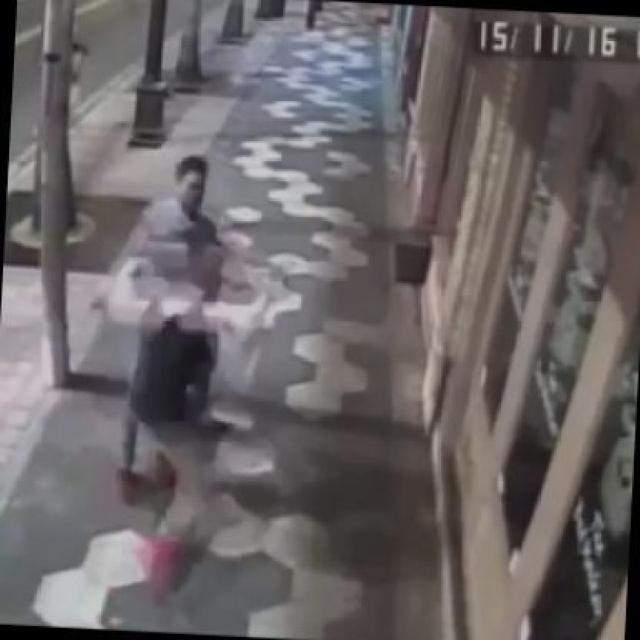fight: (90, 151, 238, 637)
